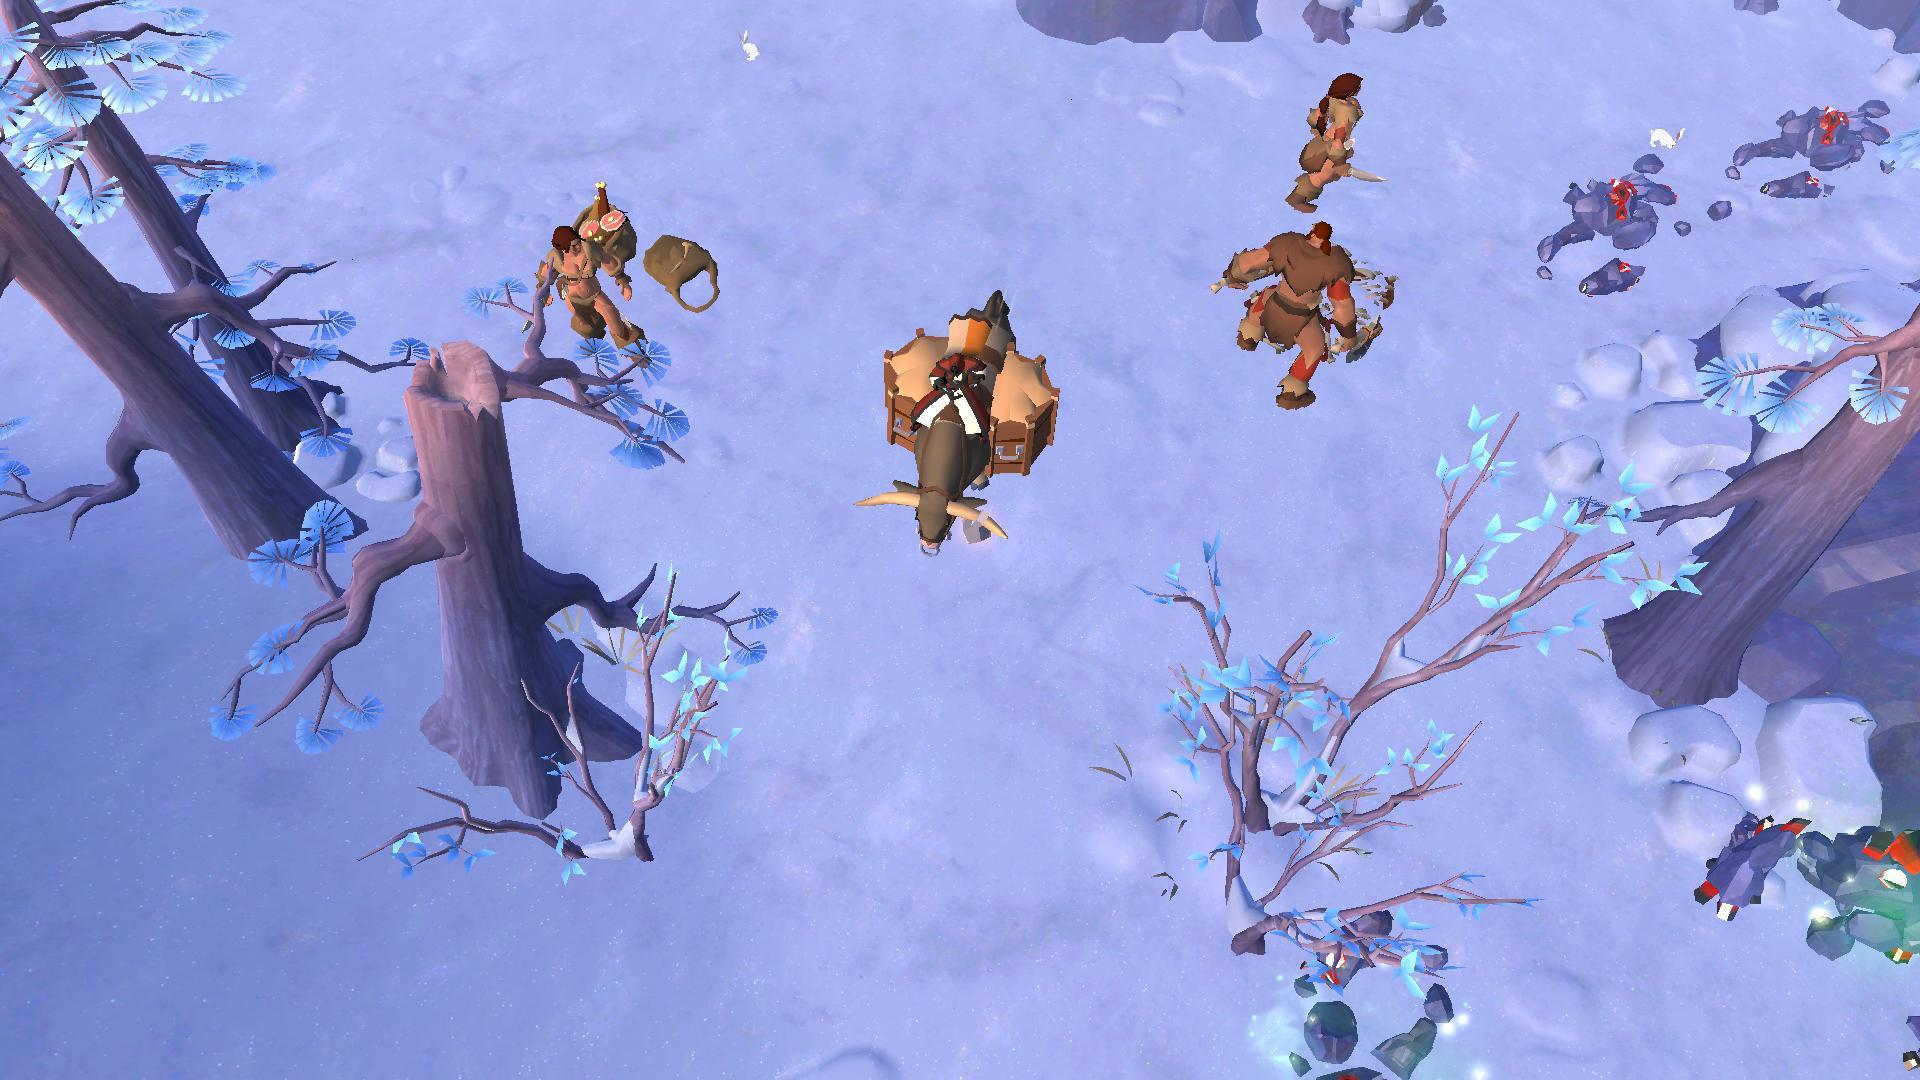enemy_factionKeeper: (1218, 220, 1369, 413), (535, 222, 638, 352), (1282, 74, 1378, 207)
